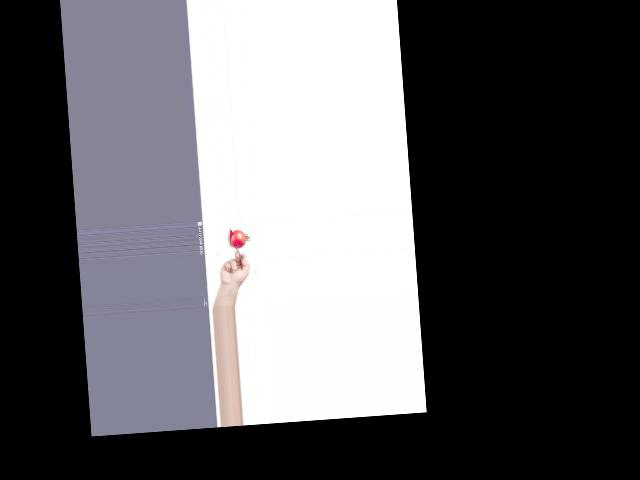tomato: (229, 229, 246, 249)
